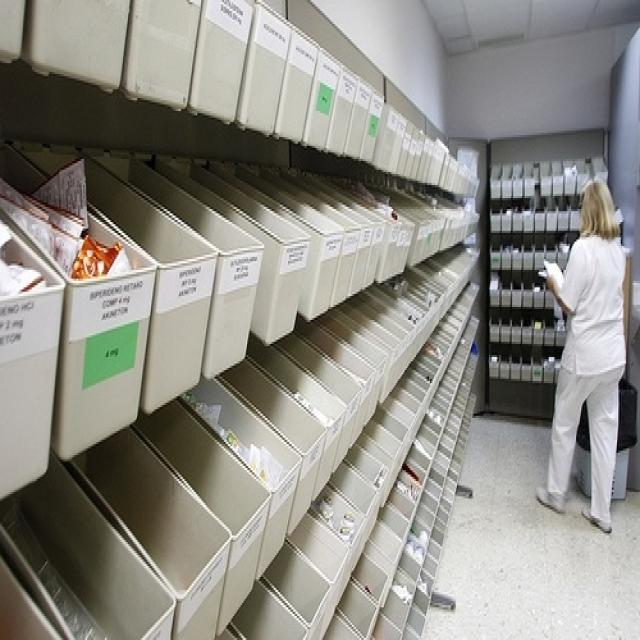Medical Waste: (13, 158, 527, 640)
